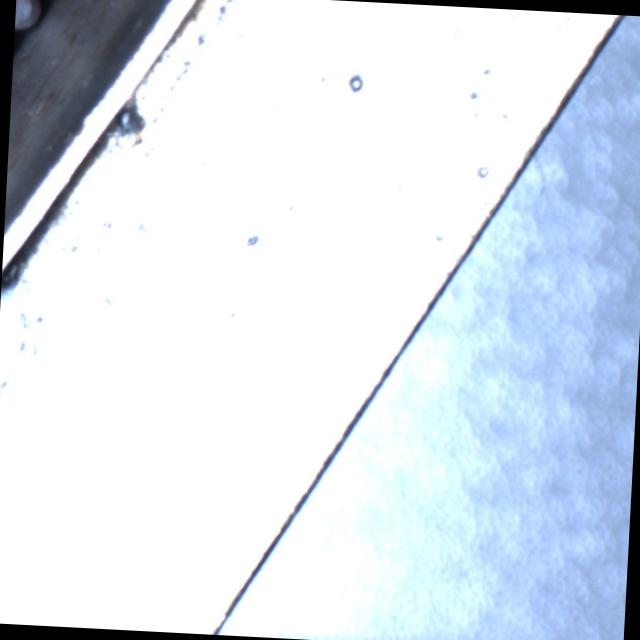tool: (15, 0, 41, 30)
